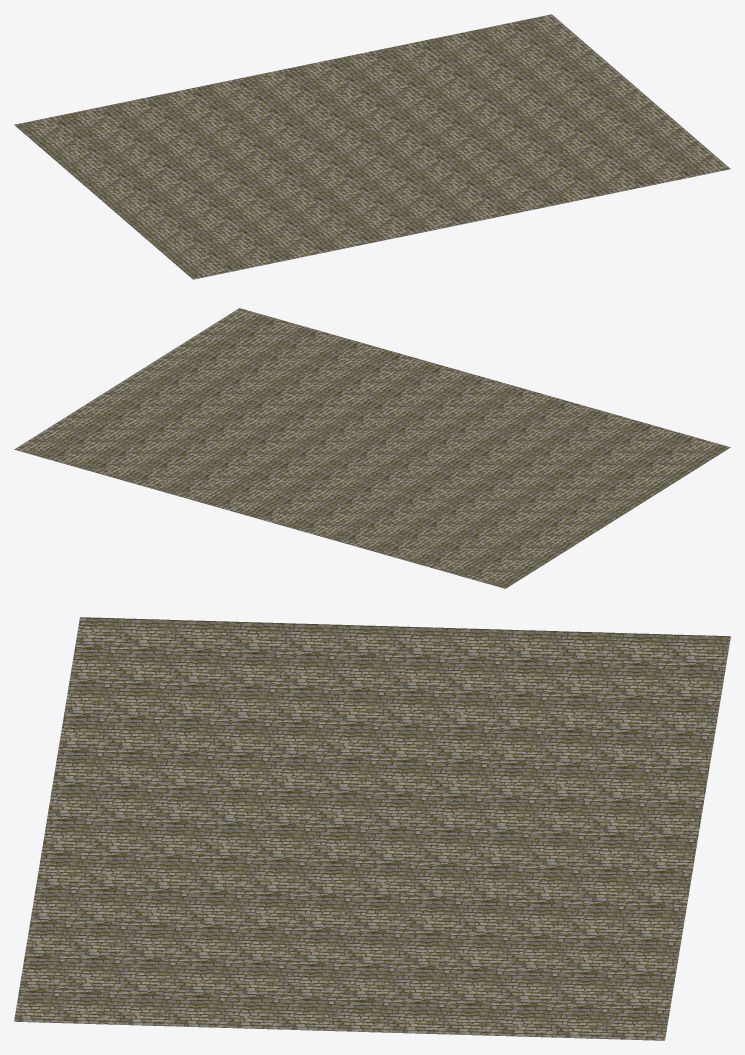
The model's file is MainMenuFloorFBX.fbx.
The picture shows the model from 3 angles, top to bottom: view 1: azimuth 30°, elevation 25°; view 2: azimuth 150°, elevation 25°; view 3: azimuth 270°, elevation 25°; orthographic projection. The views are drawn at different scales.
Parts seen in each view (by area): view 1: Plane255; view 2: Plane255; view 3: Plane255.
Part boxes in pixels (x1,y1,x2,y2): Plane255: (14, 14, 730, 279); Plane255: (14, 308, 730, 588); Plane255: (14, 617, 730, 1040).
Bounding box in the file's own units: 787 × 0.8548 × 564.
